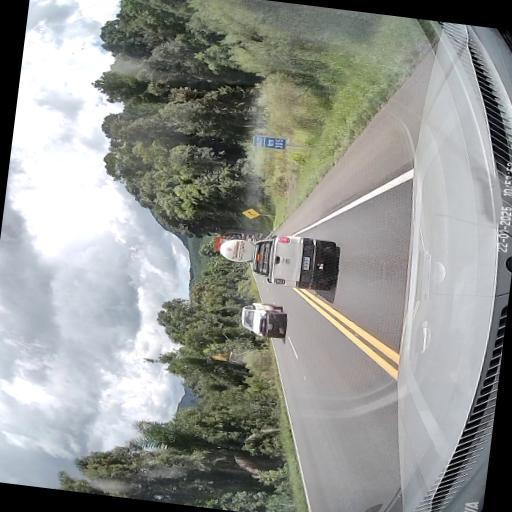A-2b: (240, 207, 260, 219)
